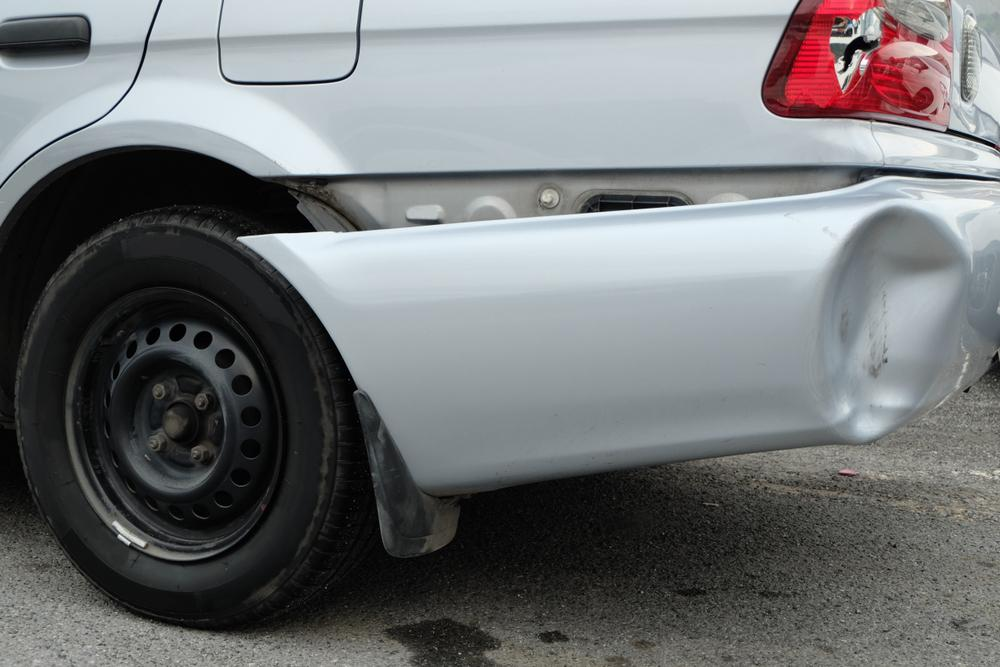dent: (815, 206, 966, 444)
lamp broken: (764, 0, 954, 131)
